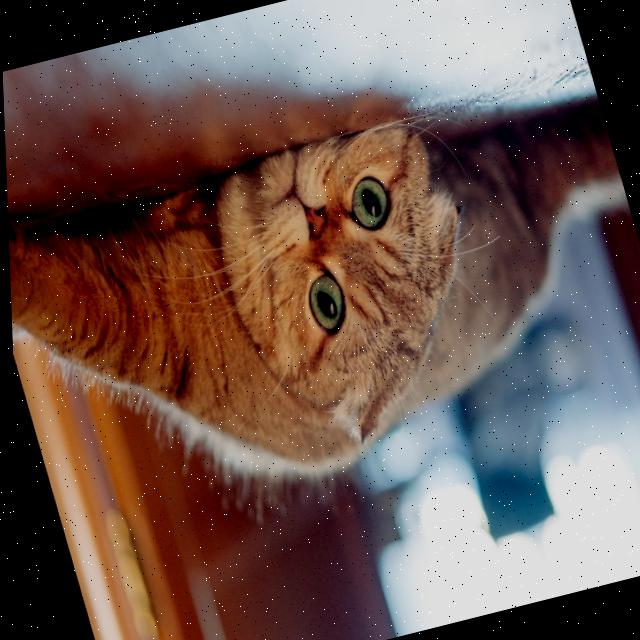Scottish Fold: (2, 58, 640, 550)
